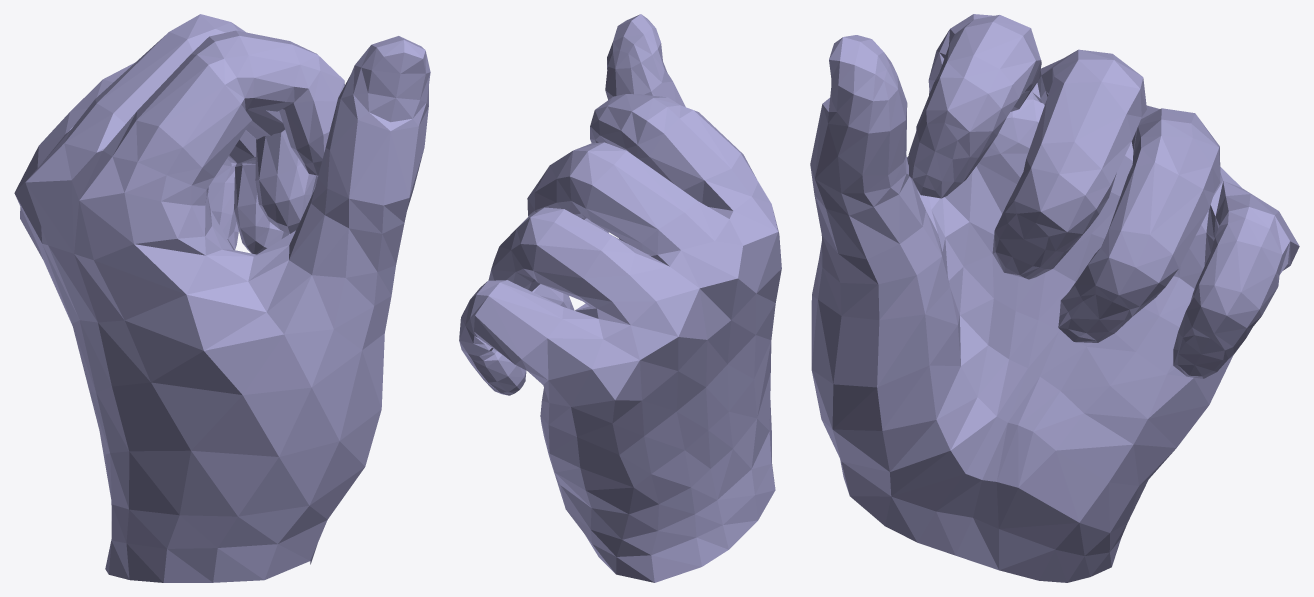
File: frame_0090_source_000090_hand.glb
3 views of the same model, side by side, from view 1: azimuth 30°, elevation 25°; view 2: azimuth 150°, elevation 25°; view 3: azimuth 270°, elevation 25° (orthographic). The views are drawn at different scales.
Parts seen in each view (by area): view 1: world; view 2: world; view 3: world.
Part boxes in pixels (x1=…): world: x1=14, y1=14, x2=430, y2=582; world: x1=459, y1=14, x2=781, y2=582; world: x1=810, y1=14, x2=1299, y2=582.
Size of the model in its own units: 0.0637 by 0.122 by 0.0932.
